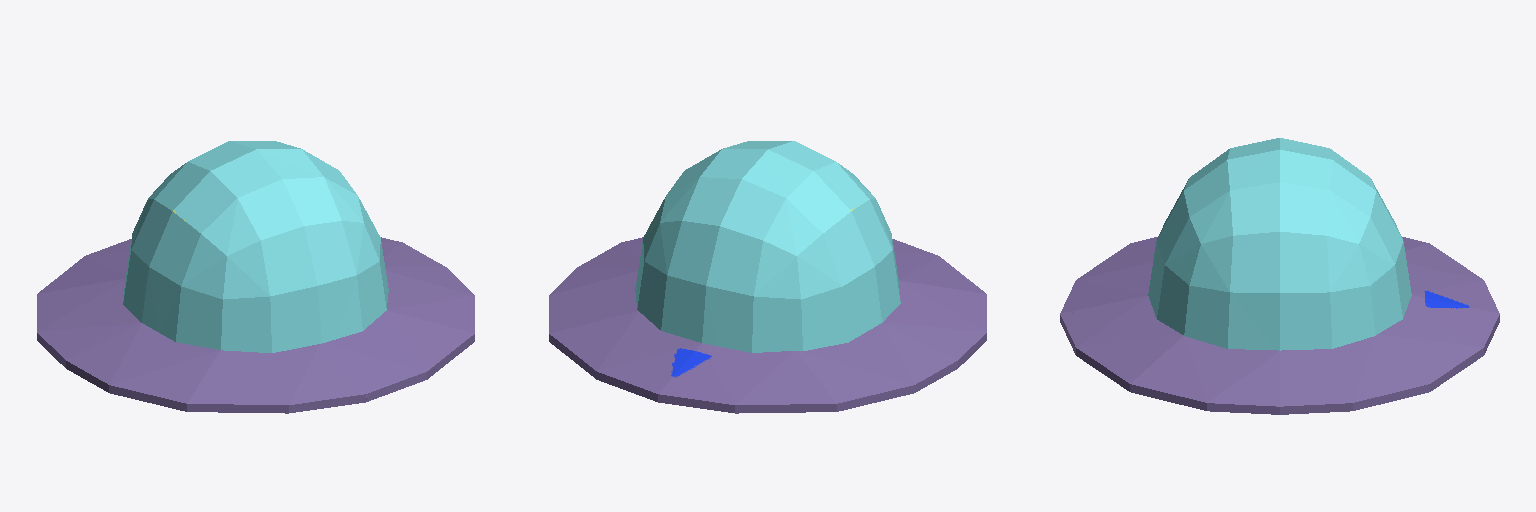
3 views of the same model, side by side, from view 1: azimuth 30°, elevation 25°; view 2: azimuth 150°, elevation 25°; view 3: azimuth 270°, elevation 25° (orthographic).
Parts seen in each view (by area): view 1: 立方体; view 2: 立方体; view 3: 立方体.
Boxes of the visible parts, x1,y1,x2,y2 form: 立方体: [37, 141, 474, 413]; 立方体: [549, 141, 986, 413]; 立方体: [1060, 138, 1499, 414].
Bounding box in the file's own units: 3.27 × 1.75 × 3.27.
Materials: 1 (1 with a texture image).